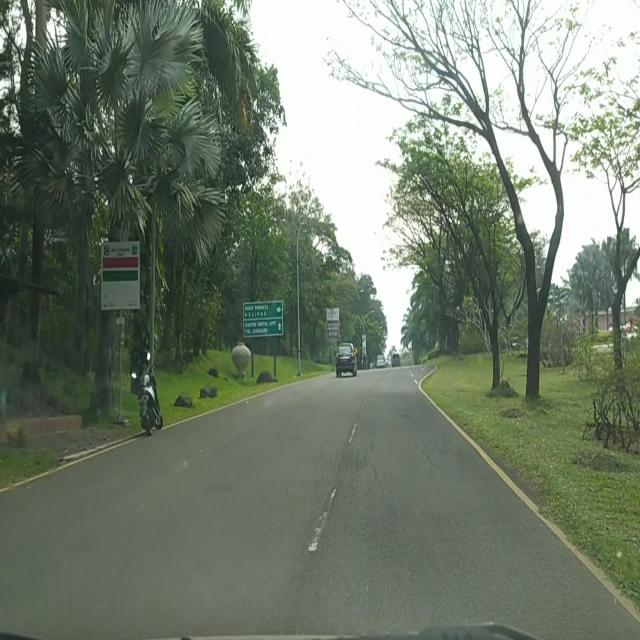Drain Hole: (311, 434, 381, 506)
